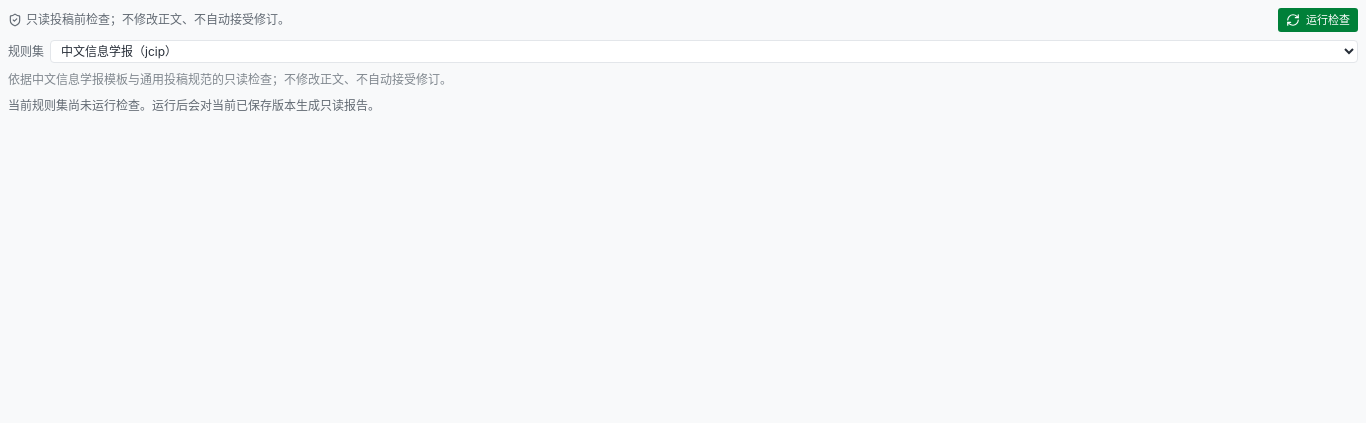
Word 投稿前检查面板 › 切到双盲规则集后运行 → POST 携带 double-blind
Select "双盲匿名检查" in the dropdown with test id "word-preflight-ruleset" at (704, 52), box [50,40,1358,63]
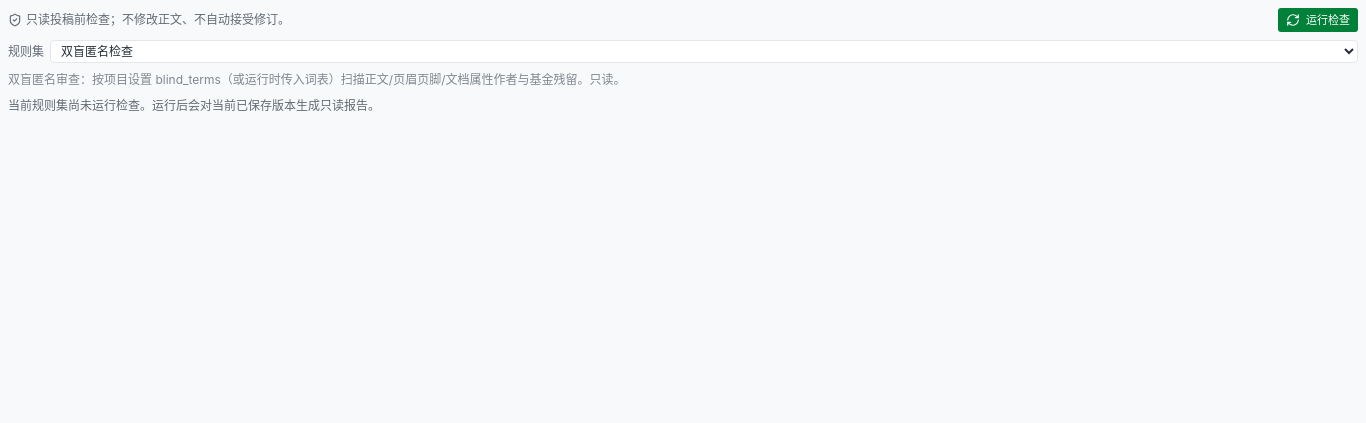
Click the button with test id "word-preflight-run".
click(1318, 20)  # box [1278,8,1358,32]
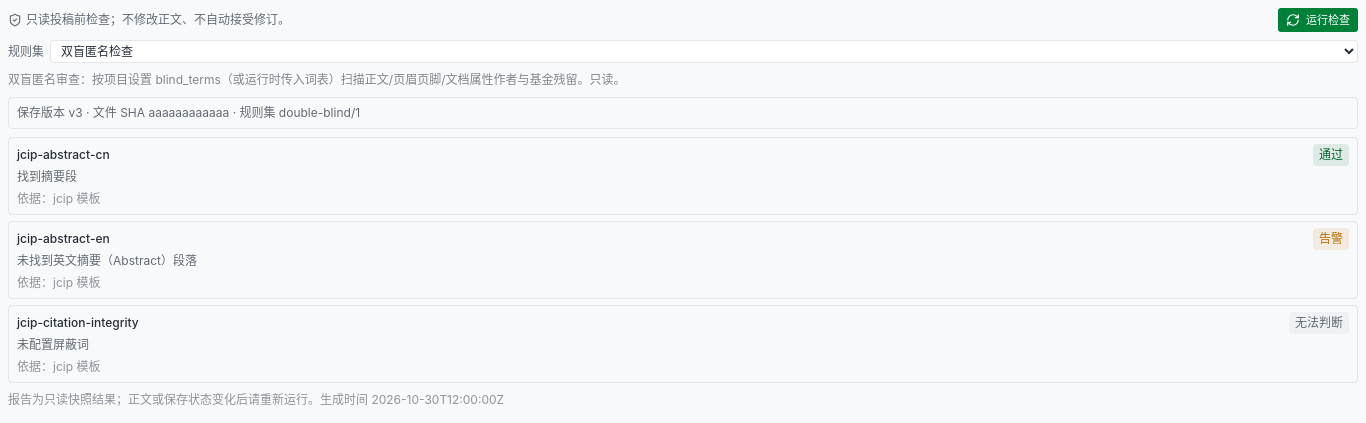
Expected: the text "double-blind/1" is shown, [8,97,1358,129]
